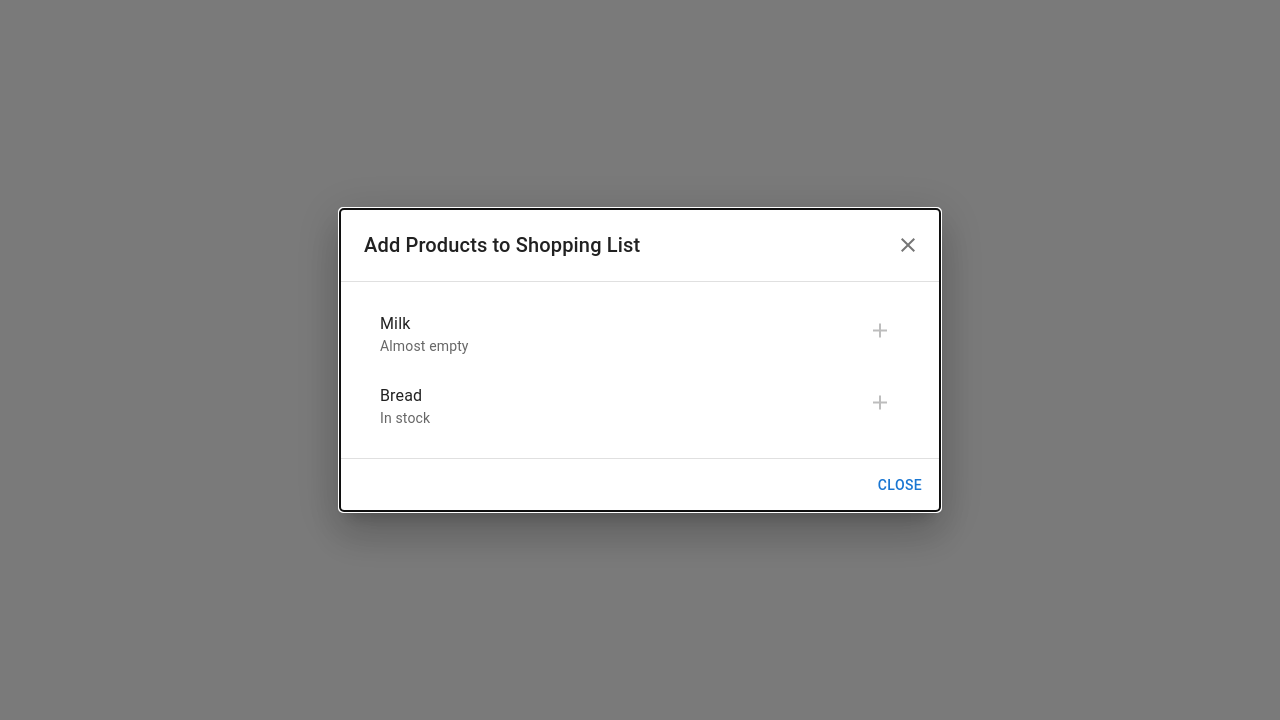
Scenario: AddProductsDialog › Adding Products › should visually mark product as added after successful add
Click the button with aria-label "add milk to shopping list".
click(395, 323)  # box [380, 314, 469, 354]
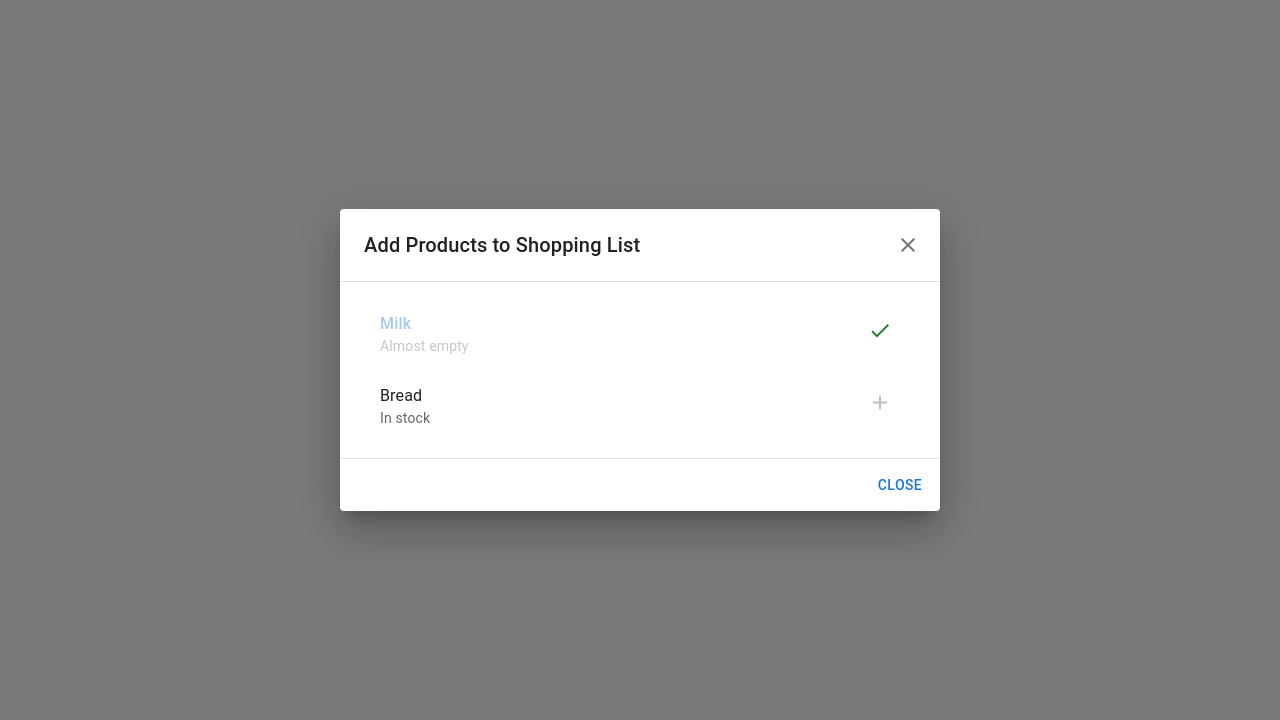
Now the icon with test id "CheckIcon" is shown, box [868, 318, 892, 342]
